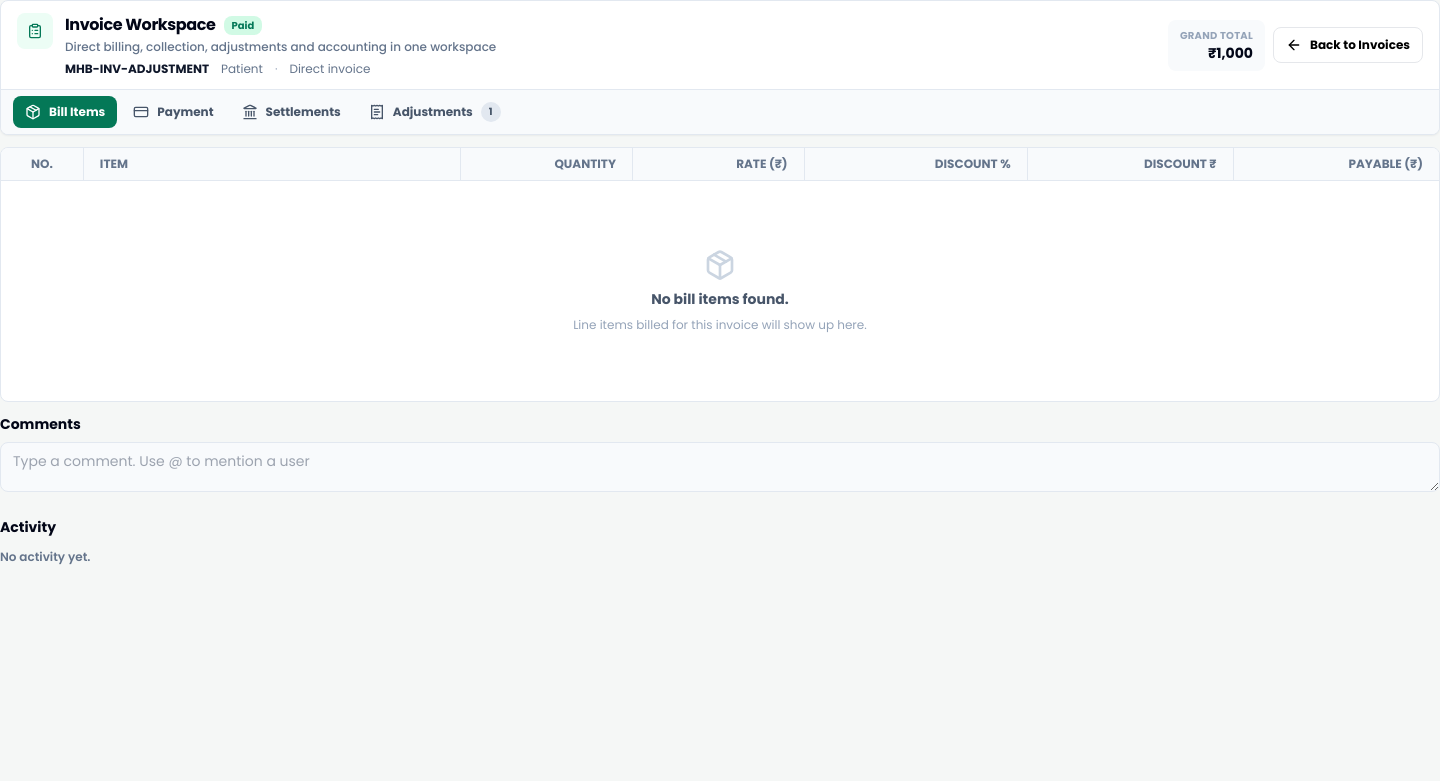
adjustment approval permissions › shows the complete failed invoice delivery reason and retry action
Click the button "Payment". click: x=173, y=112
box: 121,96 -> 226,128
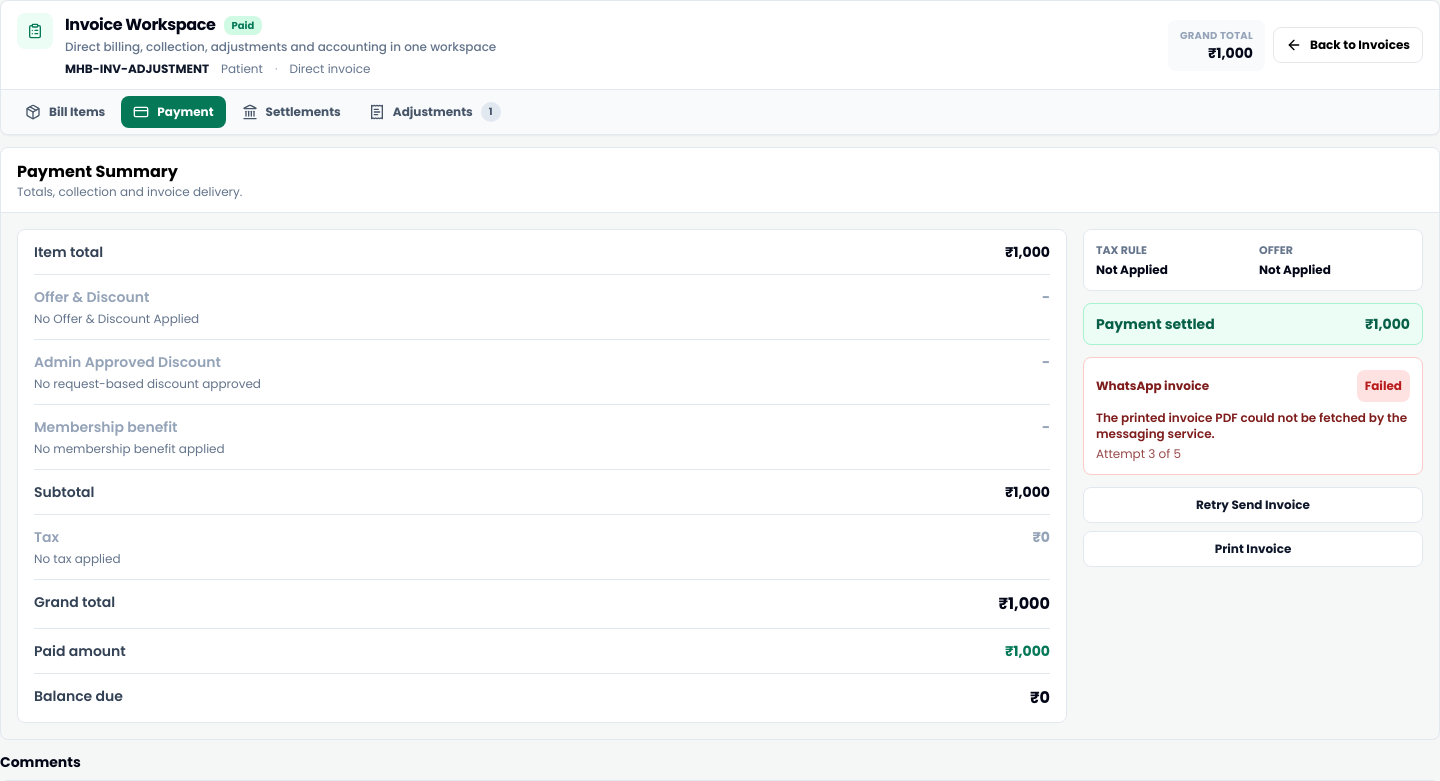
Now the text "Failed" is shown, box 1357,370 -> 1410,402
Now the text "The printed invoice PDF could not be fetched by the messaging service." is shown, box 1096,410 -> 1410,442
Now the text "Attempt 3 of 5" is shown, box 1096,445 -> 1181,462
